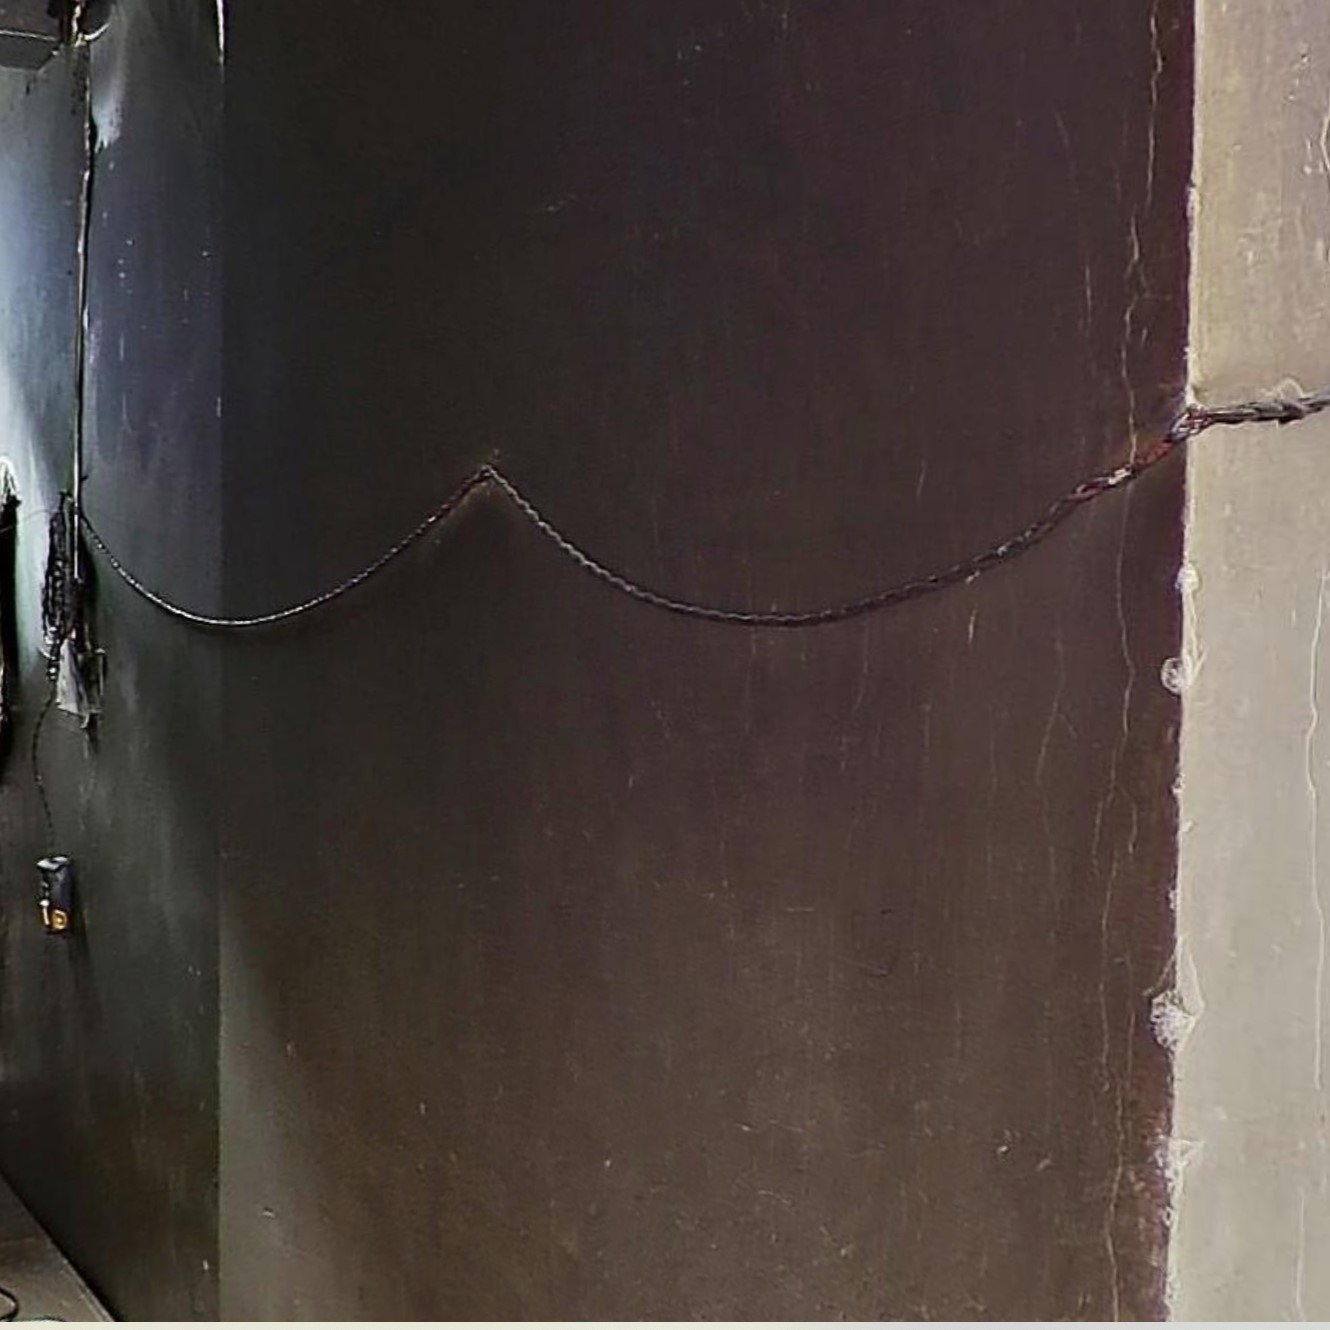Damage_level1: (269, 509, 1130, 1324), (97, 54, 1166, 475), (19, 607, 201, 1279)
